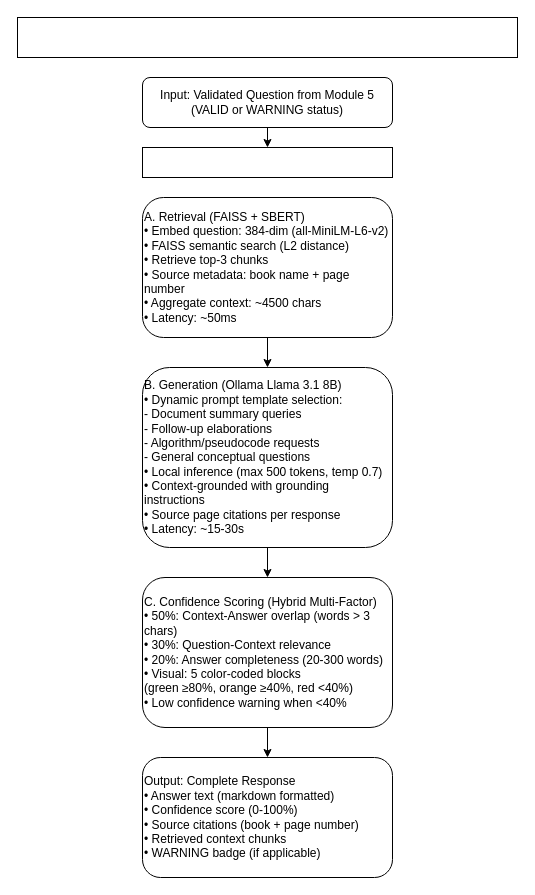
Image size: 535x895. Some labels were removed from this diagram. The box of each missing label's shape, as (x1, y1, x2, y2) in pixels:
MODULE 6: RAG ANSWER GENERATION & CONFIDENCE SCORING: (16, 16, 518, 58)
STAGE 3: RAG PIPELINE: (142, 146, 392, 178)
